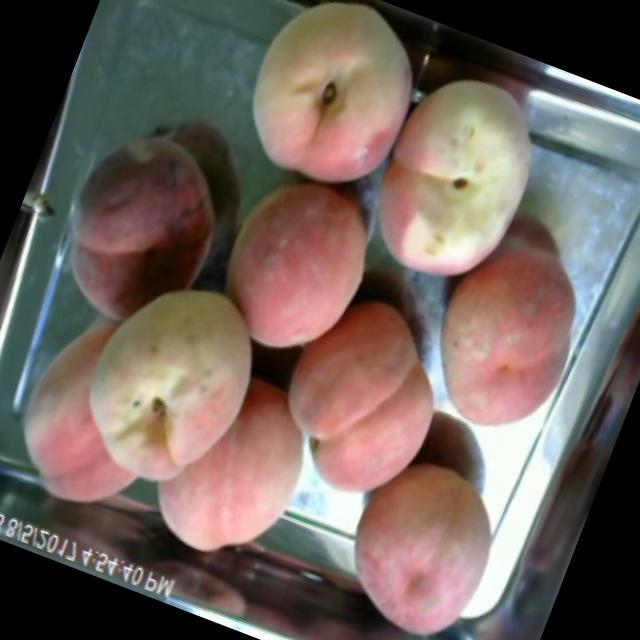Fruit: (50, 248, 292, 519), (20, 92, 262, 357), (243, 265, 483, 529), (394, 197, 624, 463), (350, 52, 574, 316), (188, 141, 410, 385), (126, 346, 346, 592), (212, 0, 443, 219), (313, 431, 532, 640)
